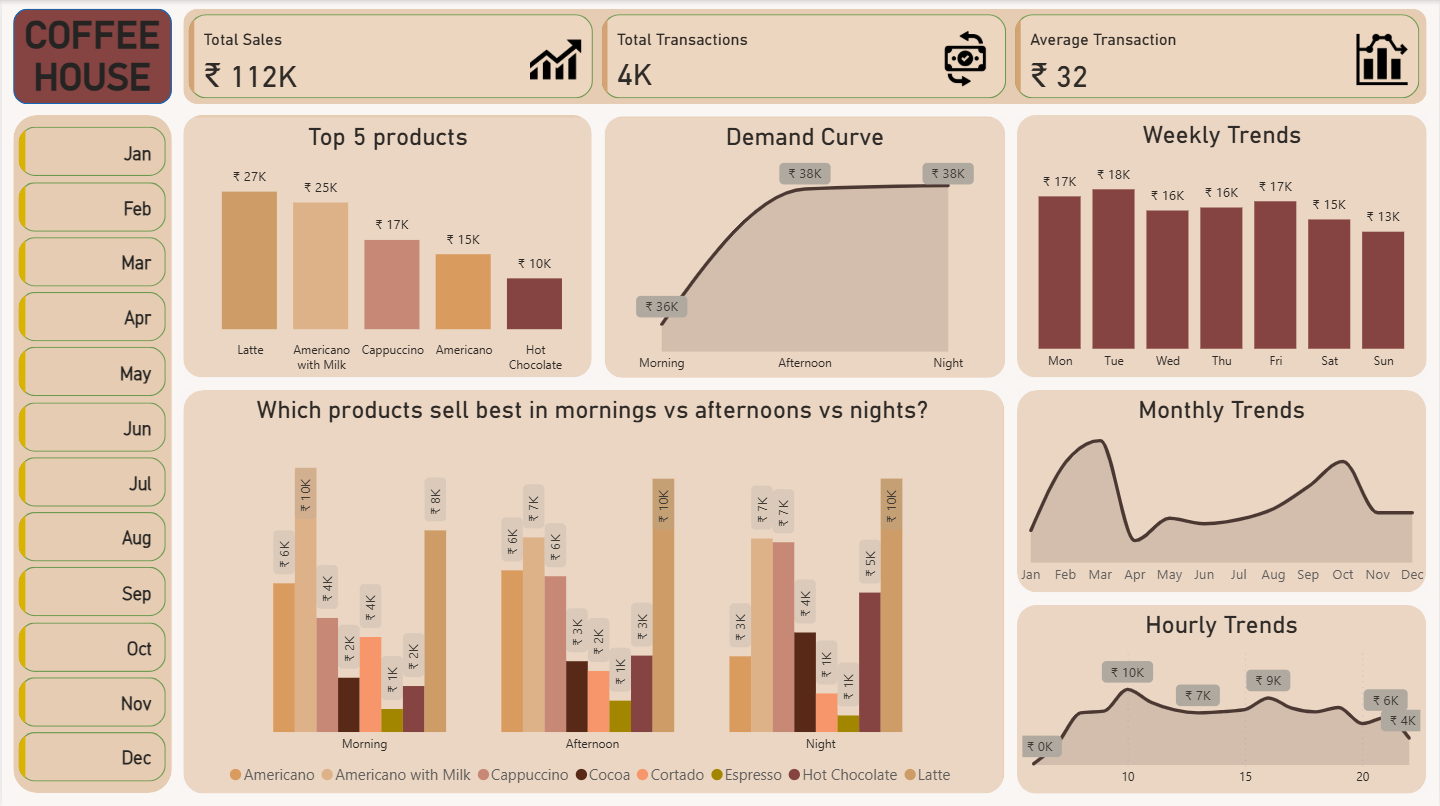

Layout of this report page (visuals, bound fields, positions):
{"tool":"powerbi","page":{"name":"Page 1","canvas":[1280,720],"ordinal":0},"visuals":[{"type":"shape","box":[904.3,538.7,364.4,168.1],"z":0},{"type":"shape","box":[904.3,347.2,364.4,180.4],"z":1000},{"type":"shape","box":[162,347.2,731.3,359.5],"z":2000},{"type":"shape","box":[903.8,102.5,365,233.8],"z":3000},{"type":"shape","box":[536.2,103.1,357.1,233.1],"z":4000},{"type":"shape","box":[161.2,102.5,363.8,233.8],"z":5000},{"type":"areaChart","title":"Demand Curve","fields":{"Y":["Sum(Coffee_sales.money)"],"Category":["TimeOfDayLookup.TimeOfDay"]},"box":[536.2,104.3,357.1,233.1],"z":6000},{"type":"columnChart","title":"Weekly Trends","fields":{"Category":["Coffee_sales.Weekday"],"Y":["Sum(Coffee_sales.money)"]},"box":[903.8,102.5,365,233.8],"z":7000},{"type":"columnChart","title":"Top 5 products","fields":{"Y":["Sum(Coffee_sales.money)"],"Category":["Coffee_sales.coffee_name"]},"box":[162,104.3,364.4,233.1],"z":8000},{"type":"lineChart","title":"Monthly Trends","fields":{"Category":["Coffee_sales.Month_name"],"Y":["Coffee_sales.Measure"]},"box":[904.3,347.2,364.4,180.4],"z":9000},{"type":"areaChart","title":"Hourly Trends","fields":{"Category":["Coffee_sales.hour_of_day"],"Y":["Sum(Coffee_sales.money)"]},"box":[904.3,538.7,364.4,168.1],"z":10000},{"type":"clusteredColumnChart","title":"Which products sell best in mornings vs afternoons vs nights?","fields":{"Y":["Sum(Coffee_sales.money)"],"Series":["Coffee_sales.coffee_name"],"Category":["TimeOfDayLookup.TimeOfDay"]},"box":[160.7,347.2,731.3,359.5],"z":11000},{"type":"shape","title":"COFFEE HOUSE","box":[10,7.5,141.2,85],"z":12000},{"type":"shape","box":[161.2,7.5,1107.5,85],"z":13000},{"type":"cardVisual","fields":{"Data":["Sum(Coffee_sales.money)","Coffee_sales.Measure","Avg(Coffee_sales.money)"]},"box":[161.2,7.5,1107.5,85],"z":14000},{"type":"shape","box":[10,102.5,141.2,603.8],"z":16000},{"type":"advancedSlicerVisual","fields":{"Values":["Coffee_sales.Month_name"]},"box":[10,107.5,145,598.8],"z":17000},{"type":"textbox","box":[10,7,141,85],"z":17001}]}

Visuals, with their boxes in screenshot pixels (x1, y1, x2, y2), scaled from the page's 1280x720 canvas onto the 1440x806 screenshot:
shape: region(1017, 603, 1427, 791)
shape: region(1017, 389, 1427, 591)
shape: region(182, 389, 1005, 791)
shape: region(1017, 115, 1427, 376)
shape: region(603, 115, 1005, 376)
shape: region(181, 115, 591, 376)
"Demand Curve" areaChart: region(603, 117, 1005, 378)
"Weekly Trends" columnChart: region(1017, 115, 1427, 376)
"Top 5 products" columnChart: region(182, 117, 592, 378)
"Monthly Trends" lineChart: region(1017, 389, 1427, 591)
"Hourly Trends" areaChart: region(1017, 603, 1427, 791)
"Which products sell best in mornings vs afternoons vs nights?" clusteredColumnChart: region(181, 389, 1004, 791)
"COFFEE HOUSE" shape: region(11, 8, 170, 104)
shape: region(181, 8, 1427, 104)
cardVisual - Sum(Coffee_sales.money) x Coffee_sales.Measure: region(181, 8, 1427, 104)
shape: region(11, 115, 170, 791)
advancedSlicerVisual - Coffee_sales.Month_name: region(11, 120, 174, 791)
textbox: region(11, 8, 170, 103)
